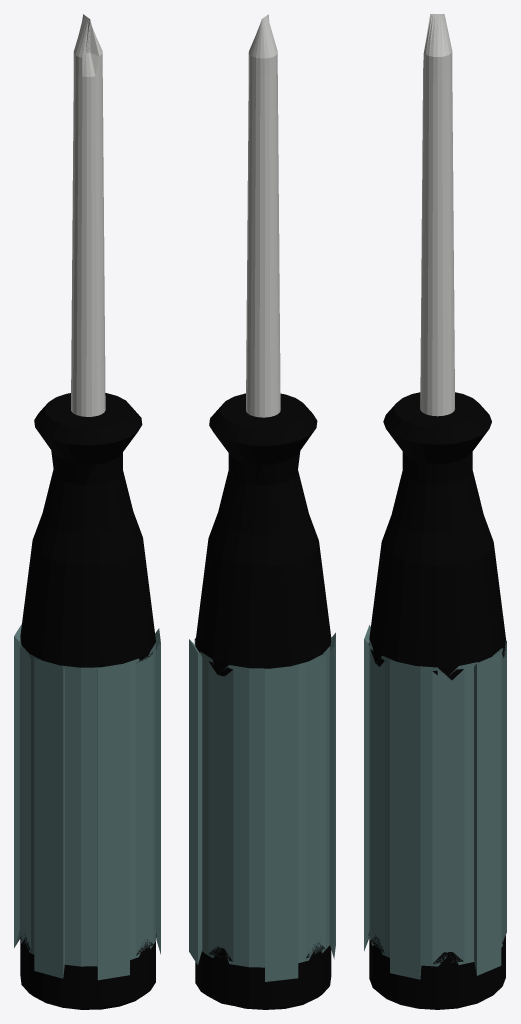
File: screwdriver.fbx
The picture shows the model from 3 angles, left to right: view 1: azimuth 30°, elevation 25°; view 2: azimuth 150°, elevation 25°; view 3: azimuth 270°, elevation 25°; orthographic projection.
Parts seen in each view (by area): view 1: screwdriver; view 2: screwdriver; view 3: screwdriver.
Part boxes in pixels (<box>): screwdriver: <box>14,14,160,1009</box>; screwdriver: <box>189,14,335,1009</box>; screwdriver: <box>364,14,506,1009</box>.
Bounding box in the file's own units: 1.24 × 9.17 × 1.22.
